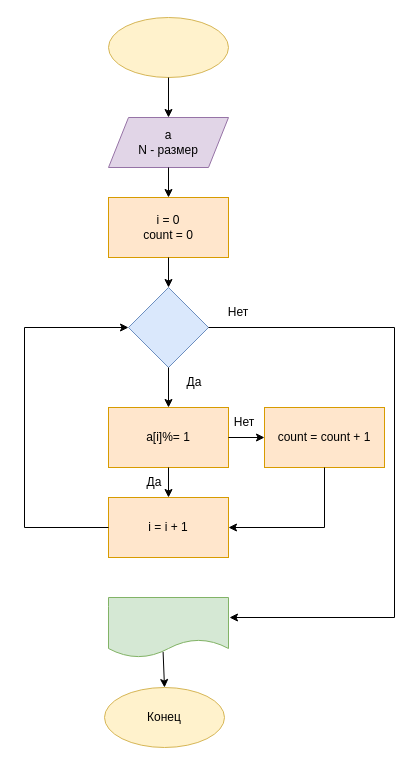
This 420x765 diagram has some shape labels left out. Each missing label, with the box of its shape:
count: (108, 596, 228, 658)
i < N: (128, 286, 208, 368)
Начало: (108, 16, 228, 78)
